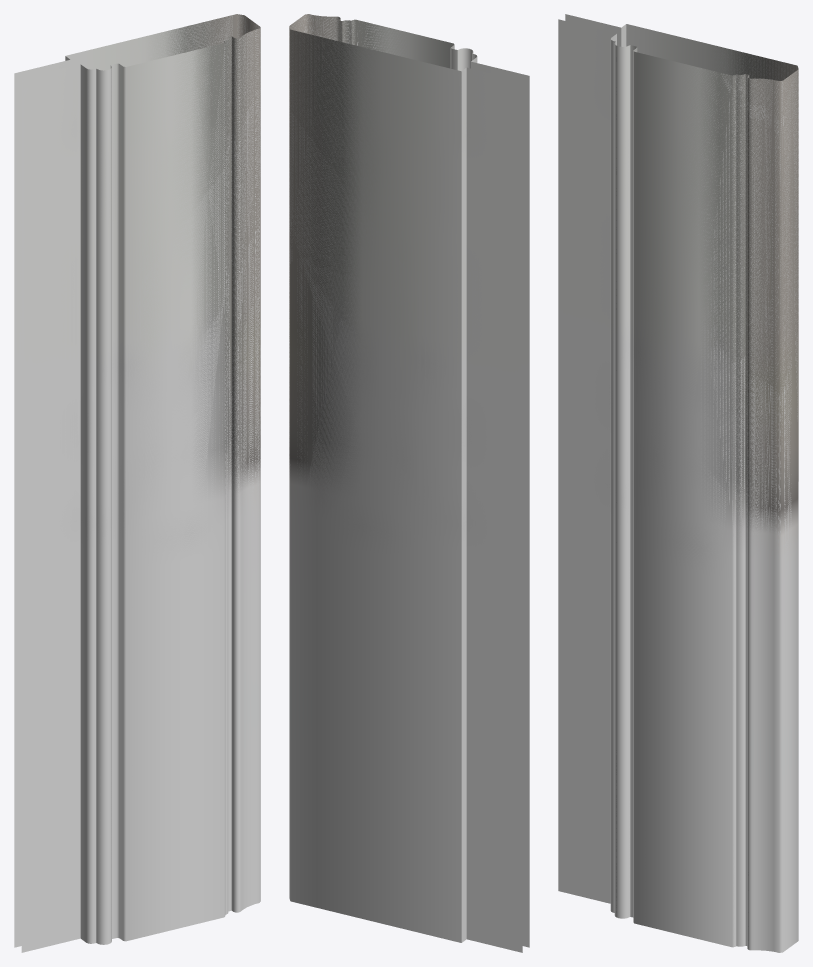
Rendered from original-44.obj.
3 views of the same model, side by side, from view 1: azimuth 30°, elevation 25°; view 2: azimuth 150°, elevation 25°; view 3: azimuth 330°, elevation 25° (orthographic).
Parts seen in each view (by area): view 1: LT_11_CR1/LT_11_CR/mesh35/mesh35-geometry#mesh35-geometry; view 2: LT_11_CR1/LT_11_CR/mesh35/mesh35-geometry#mesh35-geometry; view 3: LT_11_CR1/LT_11_CR/mesh35/mesh35-geometry#mesh35-geometry.
Boxes of the visible parts, x1=… form: LT_11_CR1/LT_11_CR/mesh35/mesh35-geometry#mesh35-geometry: x1=14, y1=14, x2=260, y2=952; LT_11_CR1/LT_11_CR/mesh35/mesh35-geometry#mesh35-geometry: x1=289, y1=14, x2=529, y2=952; LT_11_CR1/LT_11_CR/mesh35/mesh35-geometry#mesh35-geometry: x1=558, y1=14, x2=798, y2=952.
Bounding box in the file's own units: 0.1374 × 0.4942 × 0.0273.
